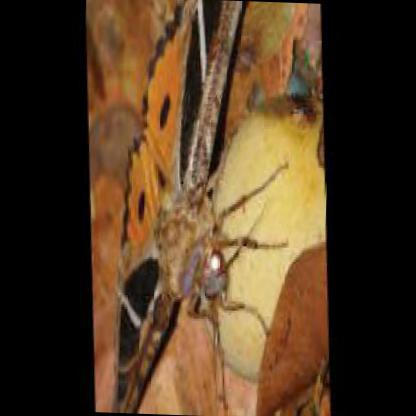fruit sucking moth: (113, 1, 240, 411)
